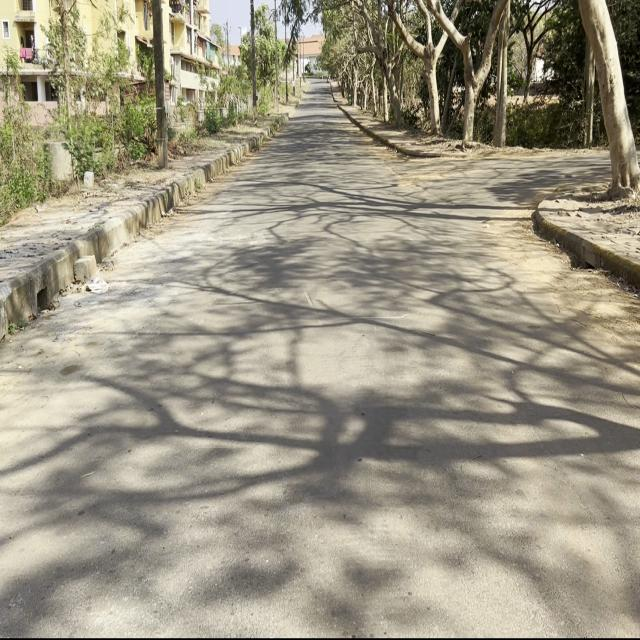Road: (3, 84, 635, 633)
